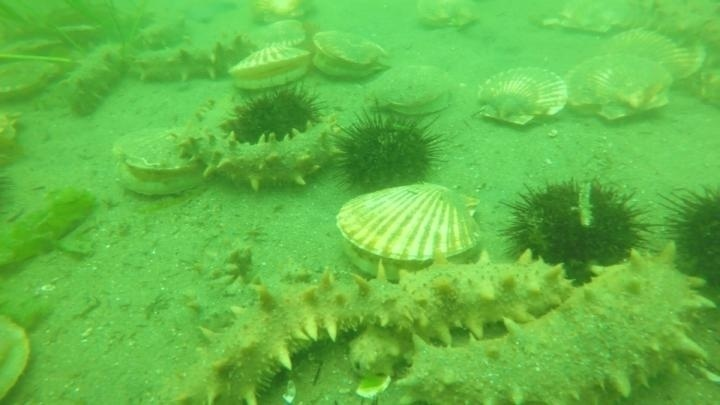echinus: (499, 173, 654, 288), (331, 108, 447, 197), (657, 179, 720, 292), (224, 82, 327, 151)
holothurian: (389, 243, 718, 405), (185, 260, 441, 403), (344, 248, 577, 382), (174, 113, 341, 198), (128, 28, 260, 88), (182, 240, 264, 335), (170, 86, 247, 162), (61, 37, 130, 120), (623, 1, 717, 51), (128, 12, 194, 54)
scallop: (331, 179, 487, 279), (557, 48, 677, 126), (110, 124, 207, 200), (472, 62, 571, 132), (602, 25, 707, 89), (367, 61, 458, 122), (1, 33, 75, 106), (225, 38, 316, 97), (307, 25, 394, 84), (542, 1, 646, 40), (1, 312, 37, 404), (245, 15, 311, 52), (412, 1, 483, 35), (250, 1, 312, 29)
